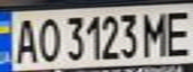1: (81, 11, 103, 61)
2: (100, 11, 121, 61)
3: (118, 10, 142, 60), (63, 12, 84, 62)
A: (9, 15, 39, 65)
E: (160, 7, 193, 57)
M: (139, 8, 172, 59)
O: (33, 13, 60, 64)
